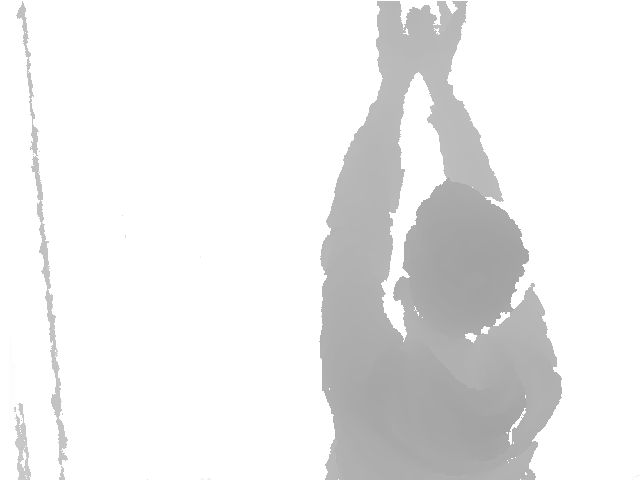hand: (420, 1, 468, 88), (376, 1, 419, 88)
head: (393, 179, 530, 341)
person: (319, 2, 564, 480)
